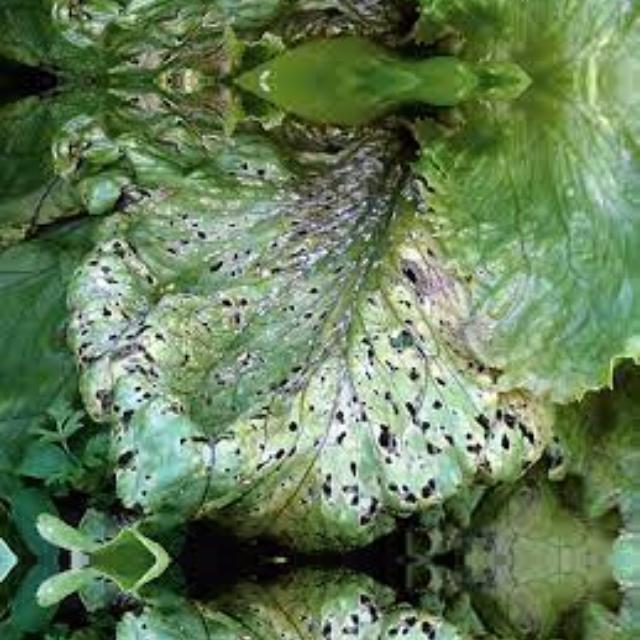Lettuce - Anthracnose: (69, 135, 593, 559), (69, 559, 593, 640), (69, 0, 593, 25)
